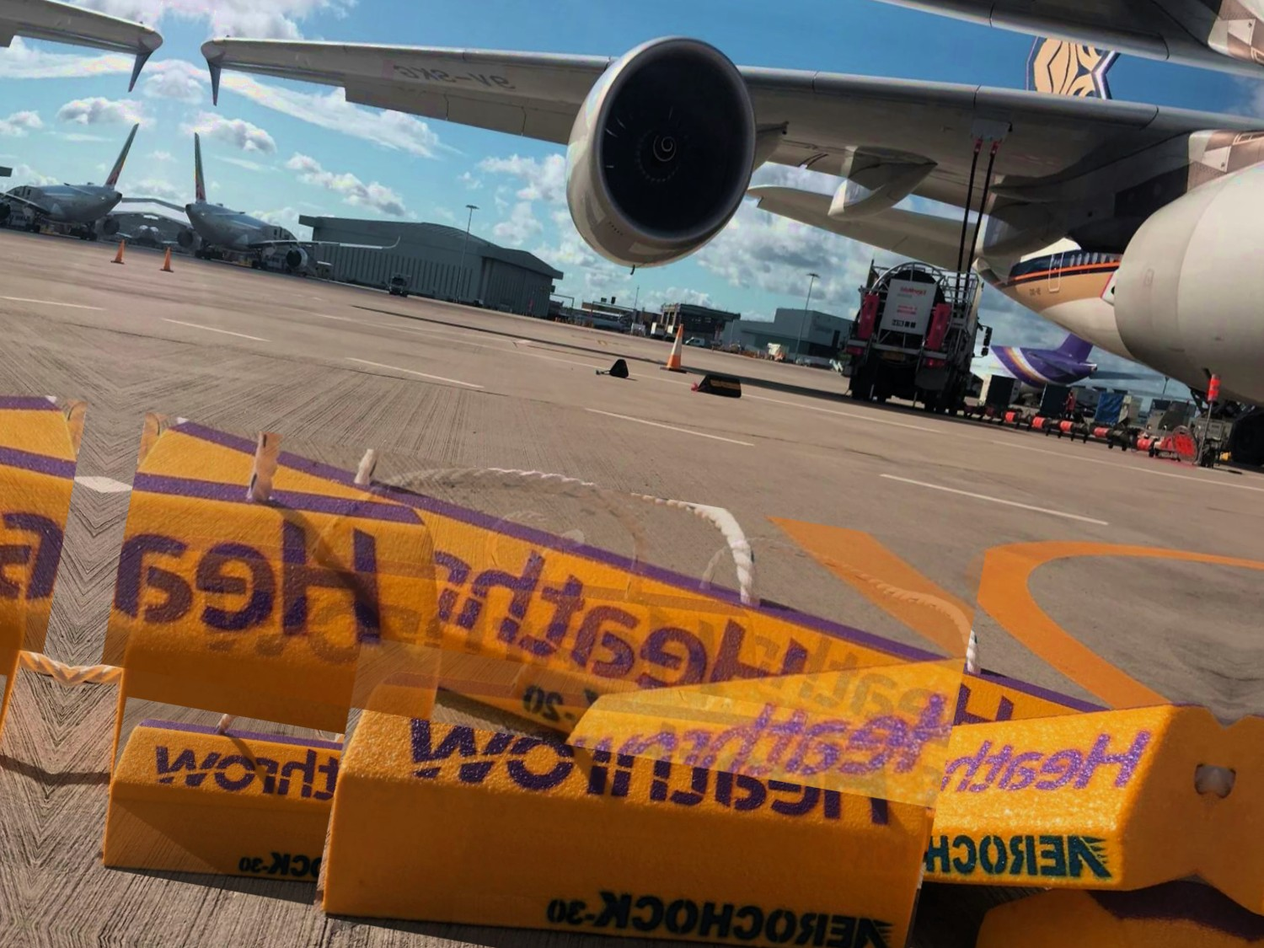chock: (98, 401, 987, 811), (94, 490, 785, 912), (310, 631, 951, 948), (520, 533, 1137, 816), (797, 639, 1226, 940), (95, 694, 483, 930), (946, 851, 1194, 948), (1187, 707, 1264, 948)
